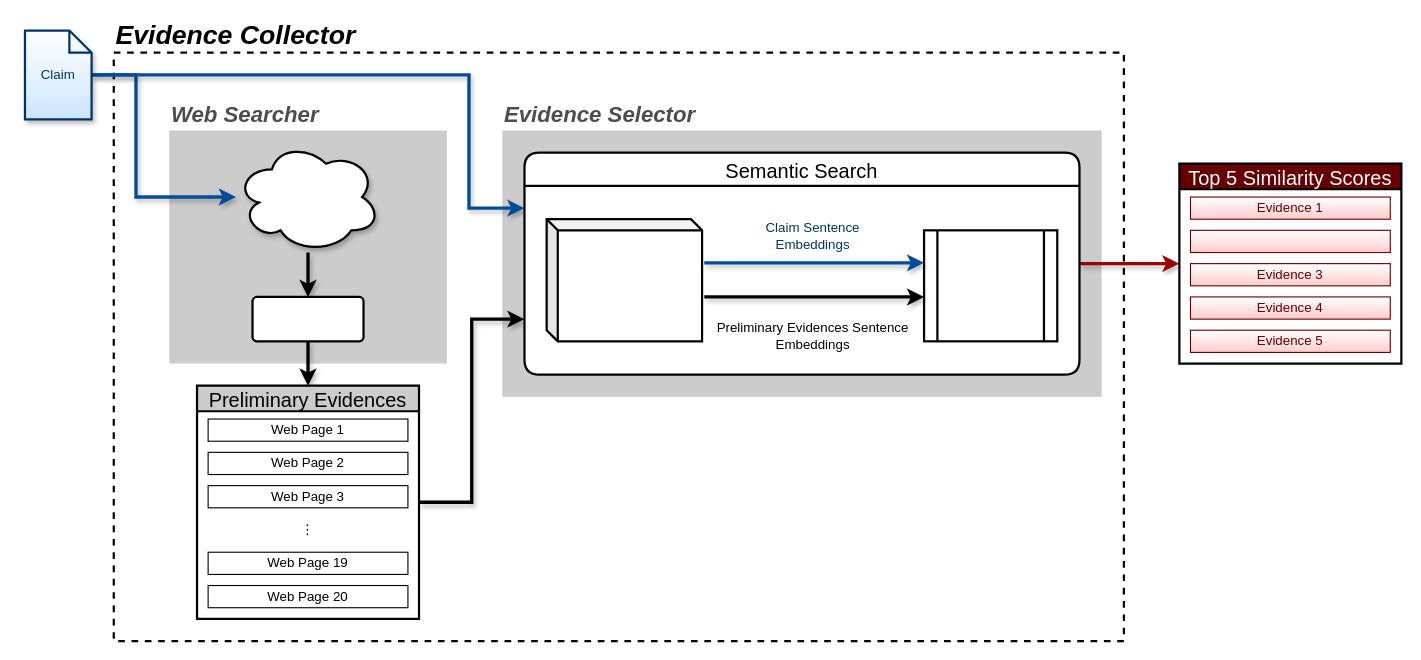
Image size: 1421x660. Some labels were removed from this diagram. Here are the shapes that lost their labels. From the top down, the centre of each, then its label:
At pixel 308 198: "duckduckgo-search API".
At pixel 1289 241: "Evidence 2".
At pixel 624 280: "Filipino RoBERTa Sentence Transformer".
At pixel 990 285: "Cosine Similarity".
At pixel 307 318: "URL Filter".
